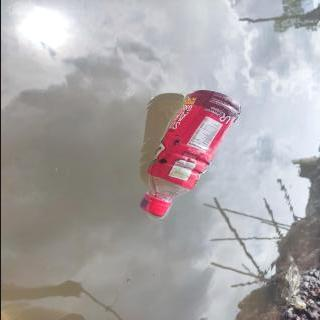bottle: (133, 88, 242, 221)
